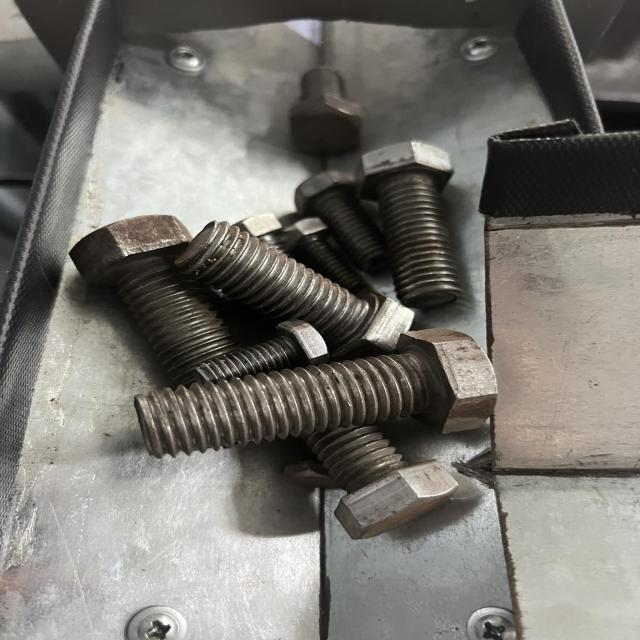bolt: (131, 327, 501, 460)
